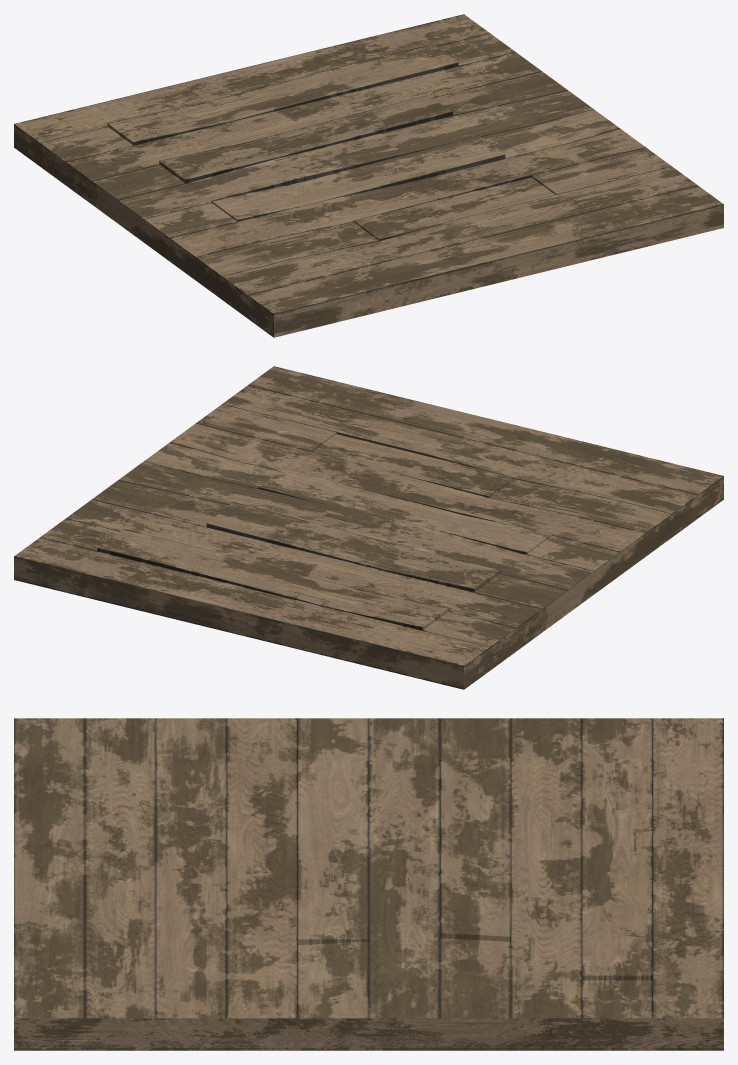
The model's file is Floor_2m_B.fbx.
3 views of the same model, one above another, from view 1: azimuth 30°, elevation 25°; view 2: azimuth 150°, elevation 25°; view 3: azimuth 270°, elevation 25° (orthographic). The views are drawn at different scales.
Parts seen in each view (by area): view 1: Floor_2m_B; view 2: Floor_2m_B; view 3: Floor_2m_B.
Part boxes in pixels (x1=…): Floor_2m_B: x1=14, y1=14, x2=723, y2=337; Floor_2m_B: x1=14, y1=366, x2=723, y2=689; Floor_2m_B: x1=14, y1=718, x2=723, y2=1050.
Bounding box in the file's own units: 2 × 2 × 0.1277.
Materials: 1 (1 with a texture image).
